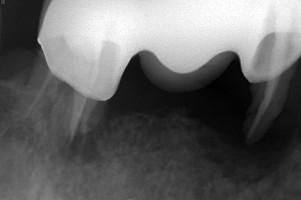Dental Caries: (193, 121, 296, 187), (59, 112, 112, 165)
